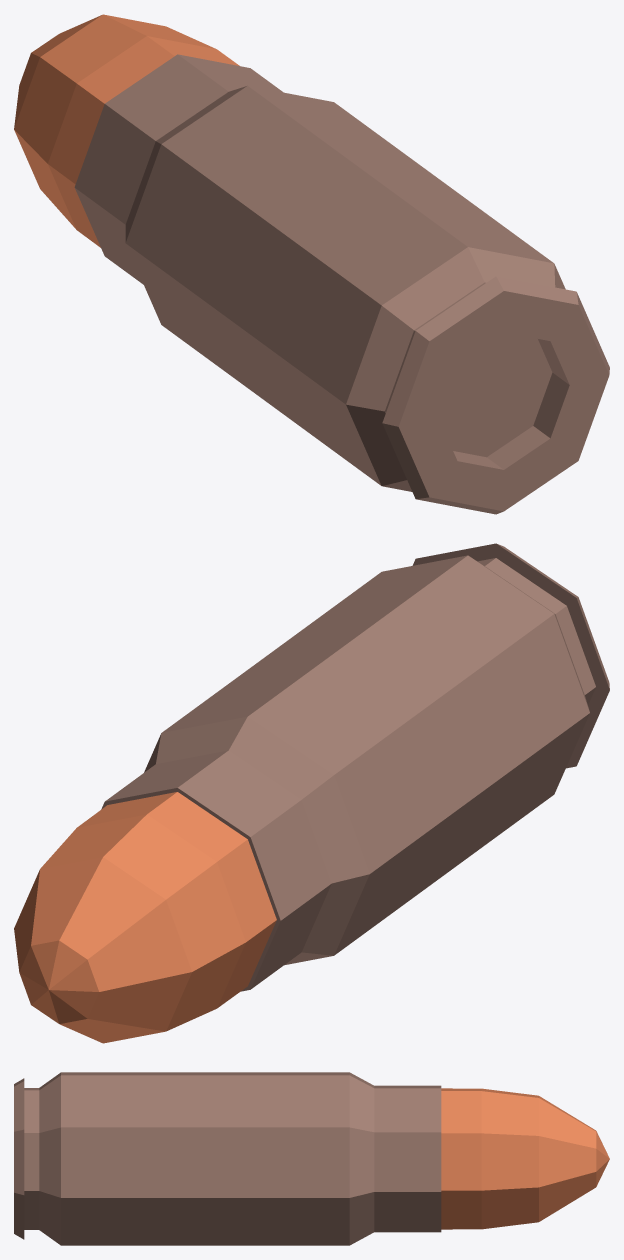
Rendered from round.glb.
3 views of the same model, one above another, from view 1: azimuth 30°, elevation 25°; view 2: azimuth 150°, elevation 25°; view 3: azimuth 270°, elevation 25° (orthographic). The views are drawn at different scales.
Visible parts, largest first — view 1: 762x25-tokarev-round; view 2: 762x25-tokarev-round; view 3: 762x25-tokarev-round.
Boxes of the visible parts, left/top/right/bottom form: 762x25-tokarev-round: left=14, top=14, right=609, bottom=514; 762x25-tokarev-round: left=14, top=543, right=609, bottom=1043; 762x25-tokarev-round: left=14, top=1072, right=609, bottom=1245.
Bounding box in the file's own units: 0.0109 × 0.0109 × 0.0351.
